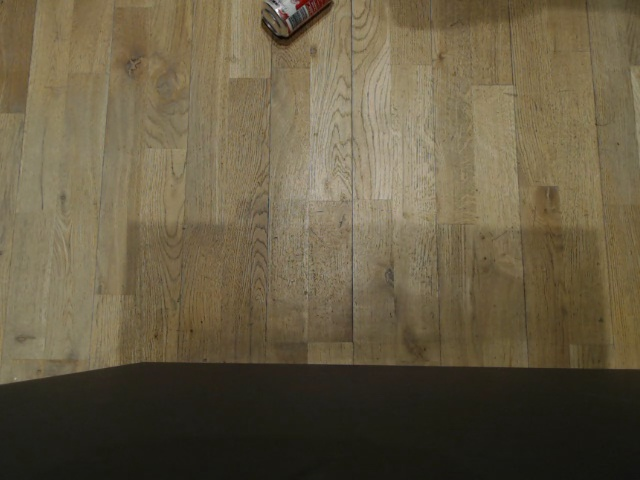cola: (256, 0, 318, 35)
